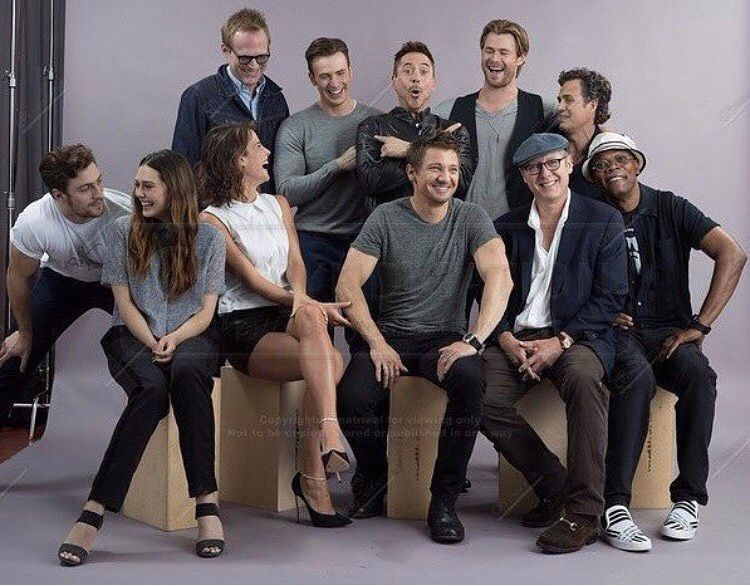bad: (389, 55, 440, 107), (592, 146, 636, 190), (472, 36, 516, 79), (122, 170, 165, 214), (419, 156, 463, 199), (525, 156, 568, 199), (313, 66, 349, 102)
